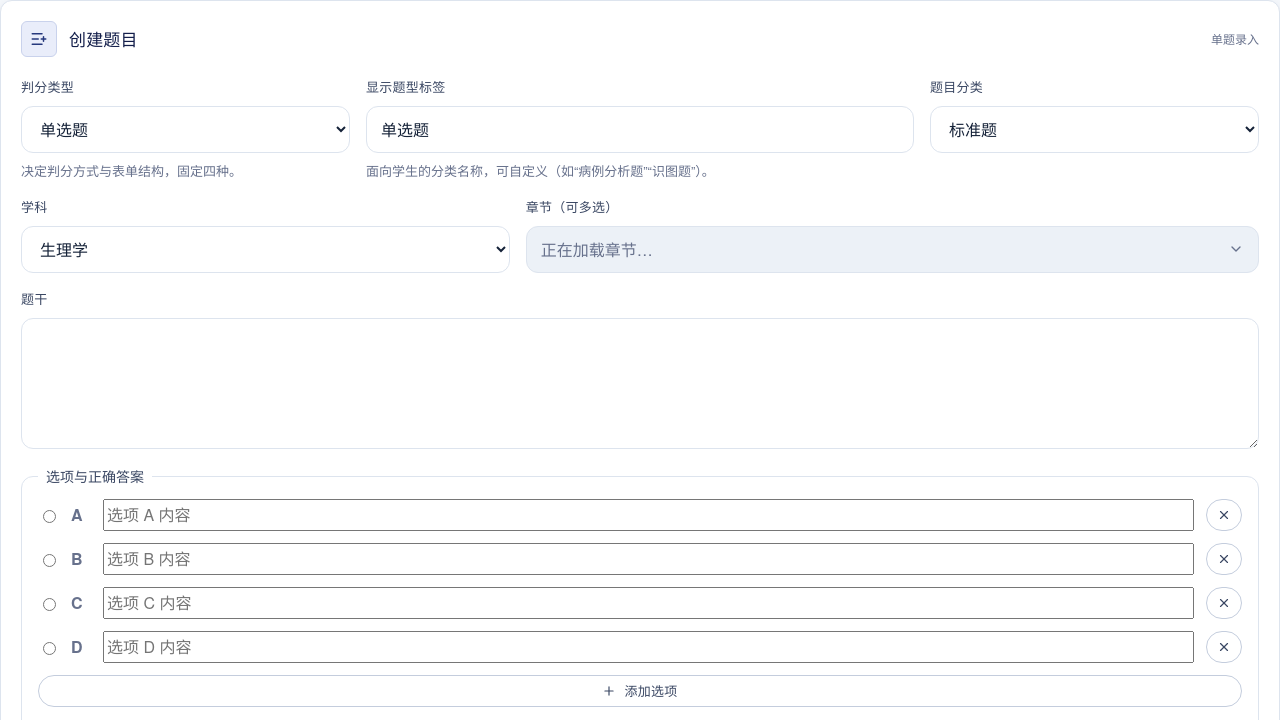
Test: AdminQuizCreate › keeps chapters owned by the latest subject when responses arrive out of order
Select "病理学" in the dropdown with id "create-subject" at (265, 249), box [21,226,510,273]
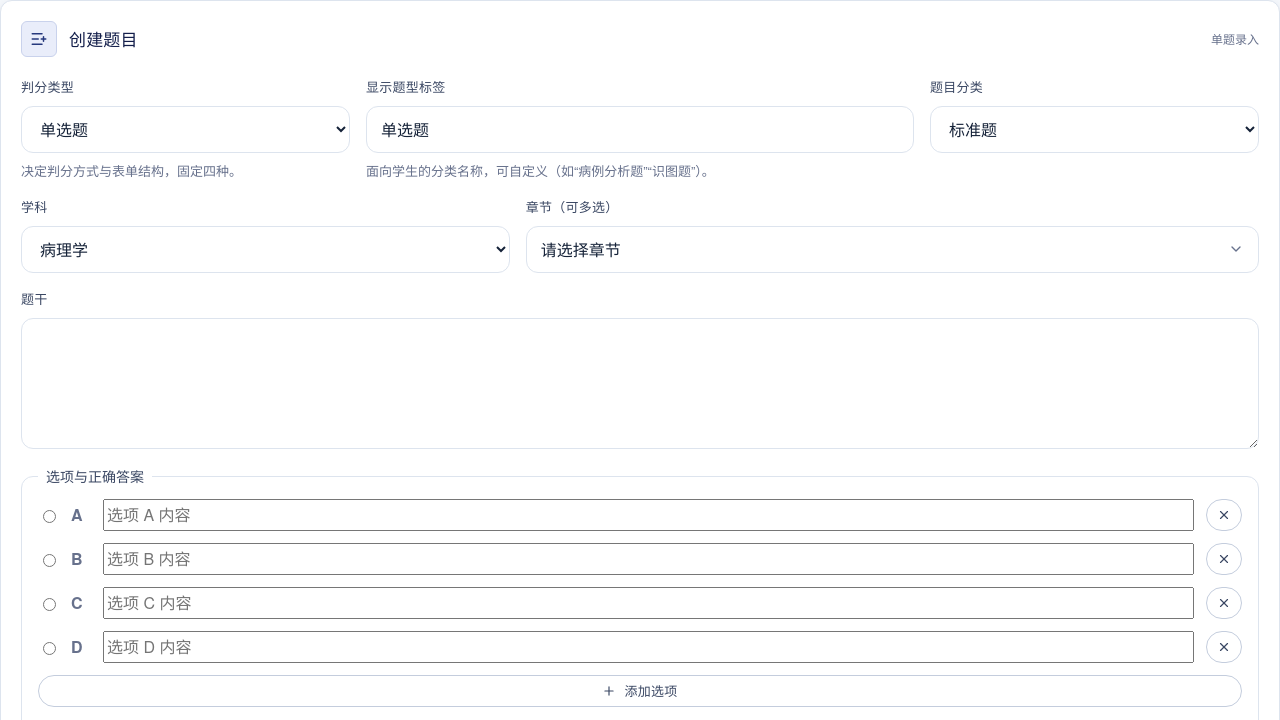
Click the button with id "create-chapters".
click(581, 249)  # box [526,226,1259,273]
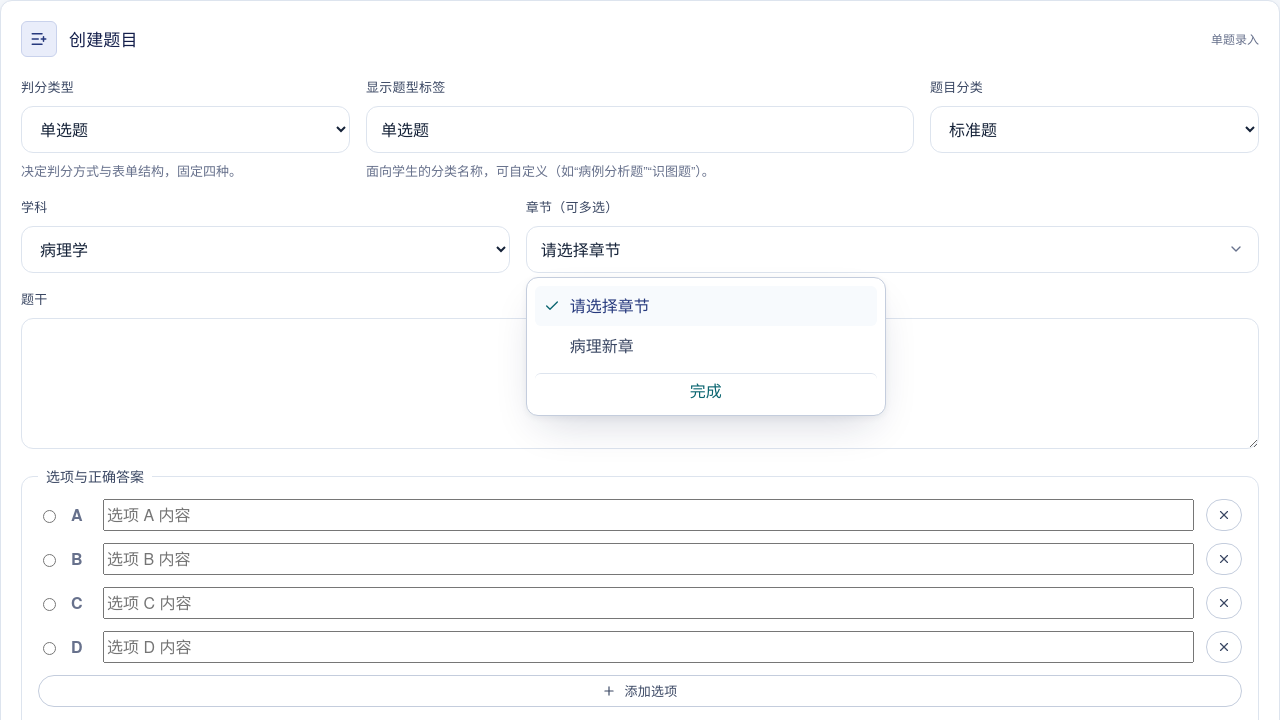
Check: the text "病理新章" is shown, box [570,334,634,357]
